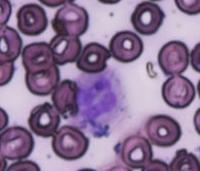N: (74, 69, 127, 128)
